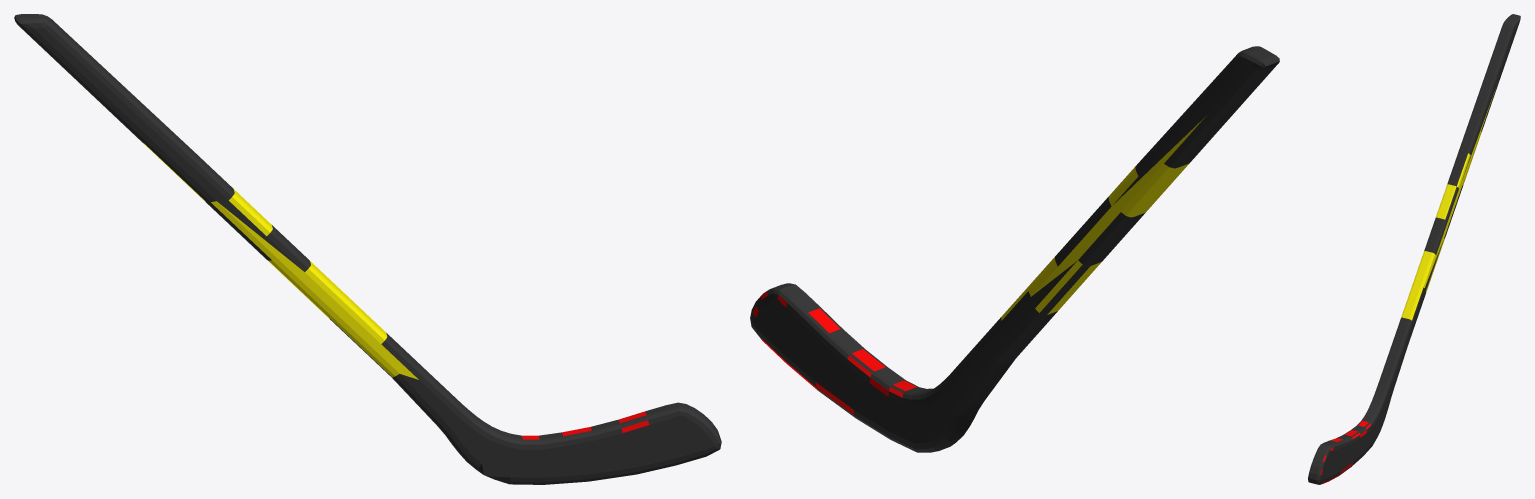
File: hockeyStick.glb
3 views of the same model, side by side, from view 1: azimuth 30°, elevation 25°; view 2: azimuth 150°, elevation 25°; view 3: azimuth 270°, elevation 25° (orthographic). The views are drawn at different scales.
Bounding box in the file's own units: 795282 × 654446 × 404269.
